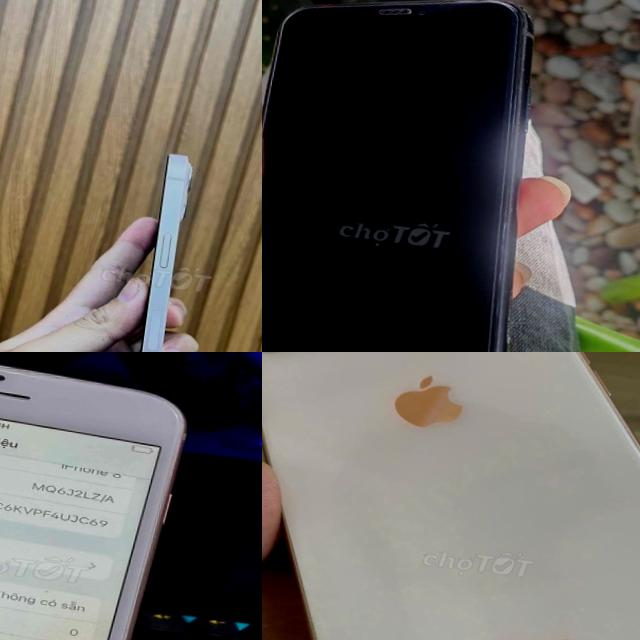gen_12_13: (107, 136, 207, 352)
gen_7_8: (262, 352, 640, 640), (0, 366, 184, 640)
gen_x_xs: (262, 0, 532, 352)
scratch: (505, 0, 552, 28), (420, 0, 461, 21)
